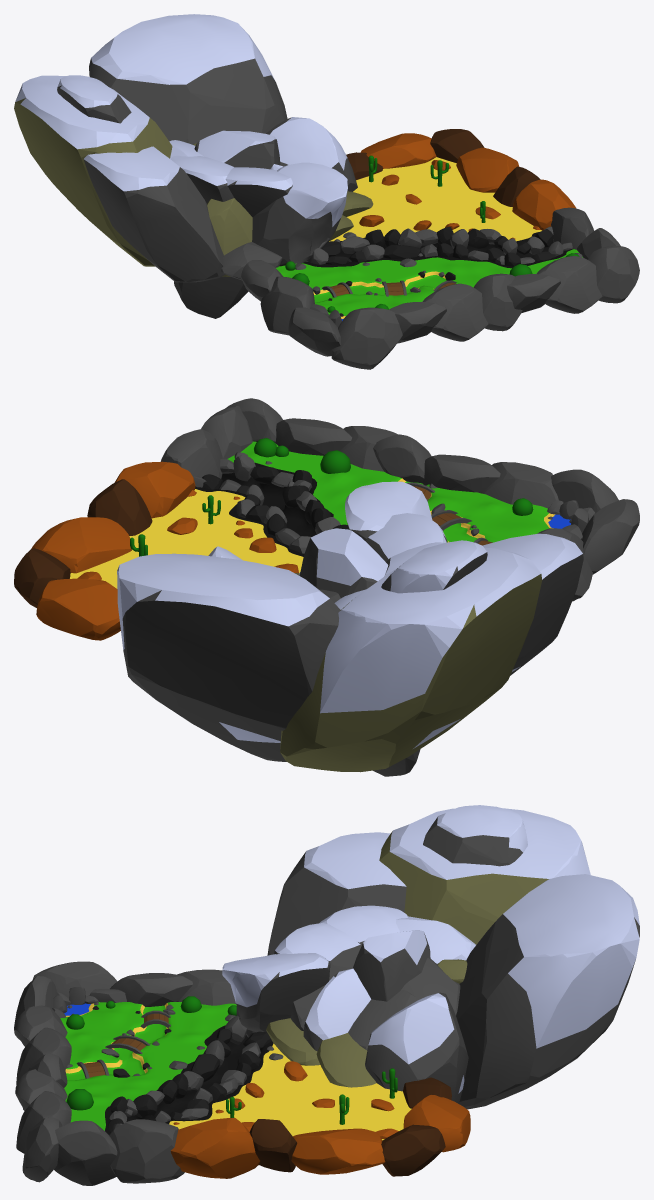
File: Plejnot (1).FBX
3 renders of one model, top to bottom at view 1: azimuth 30°, elevation 25°; view 2: azimuth 150°, elevation 25°; view 3: azimuth 270°, elevation 25°, orthographic. The views are drawn at different scales.
Parts seen in each view (by area): view 1: Plejnot; view 2: Plejnot; view 3: Plejnot.
Boxes of the visible parts, x1,y1,x2,y2 form: Plejnot: (14,14,639,369); Plejnot: (14,398,639,776); Plejnot: (14,805,639,1185).
Bounding box in the file's own units: 8164 × 9256 × 4184.
